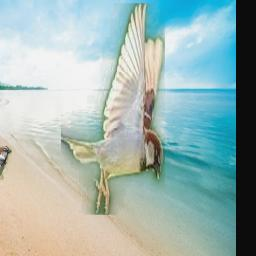Sparrow: (61, 3, 165, 215), (0, 146, 12, 180)
